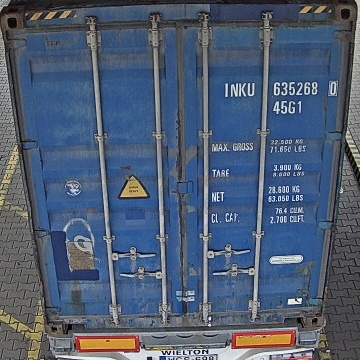serial_id: (225, 81, 338, 96)
